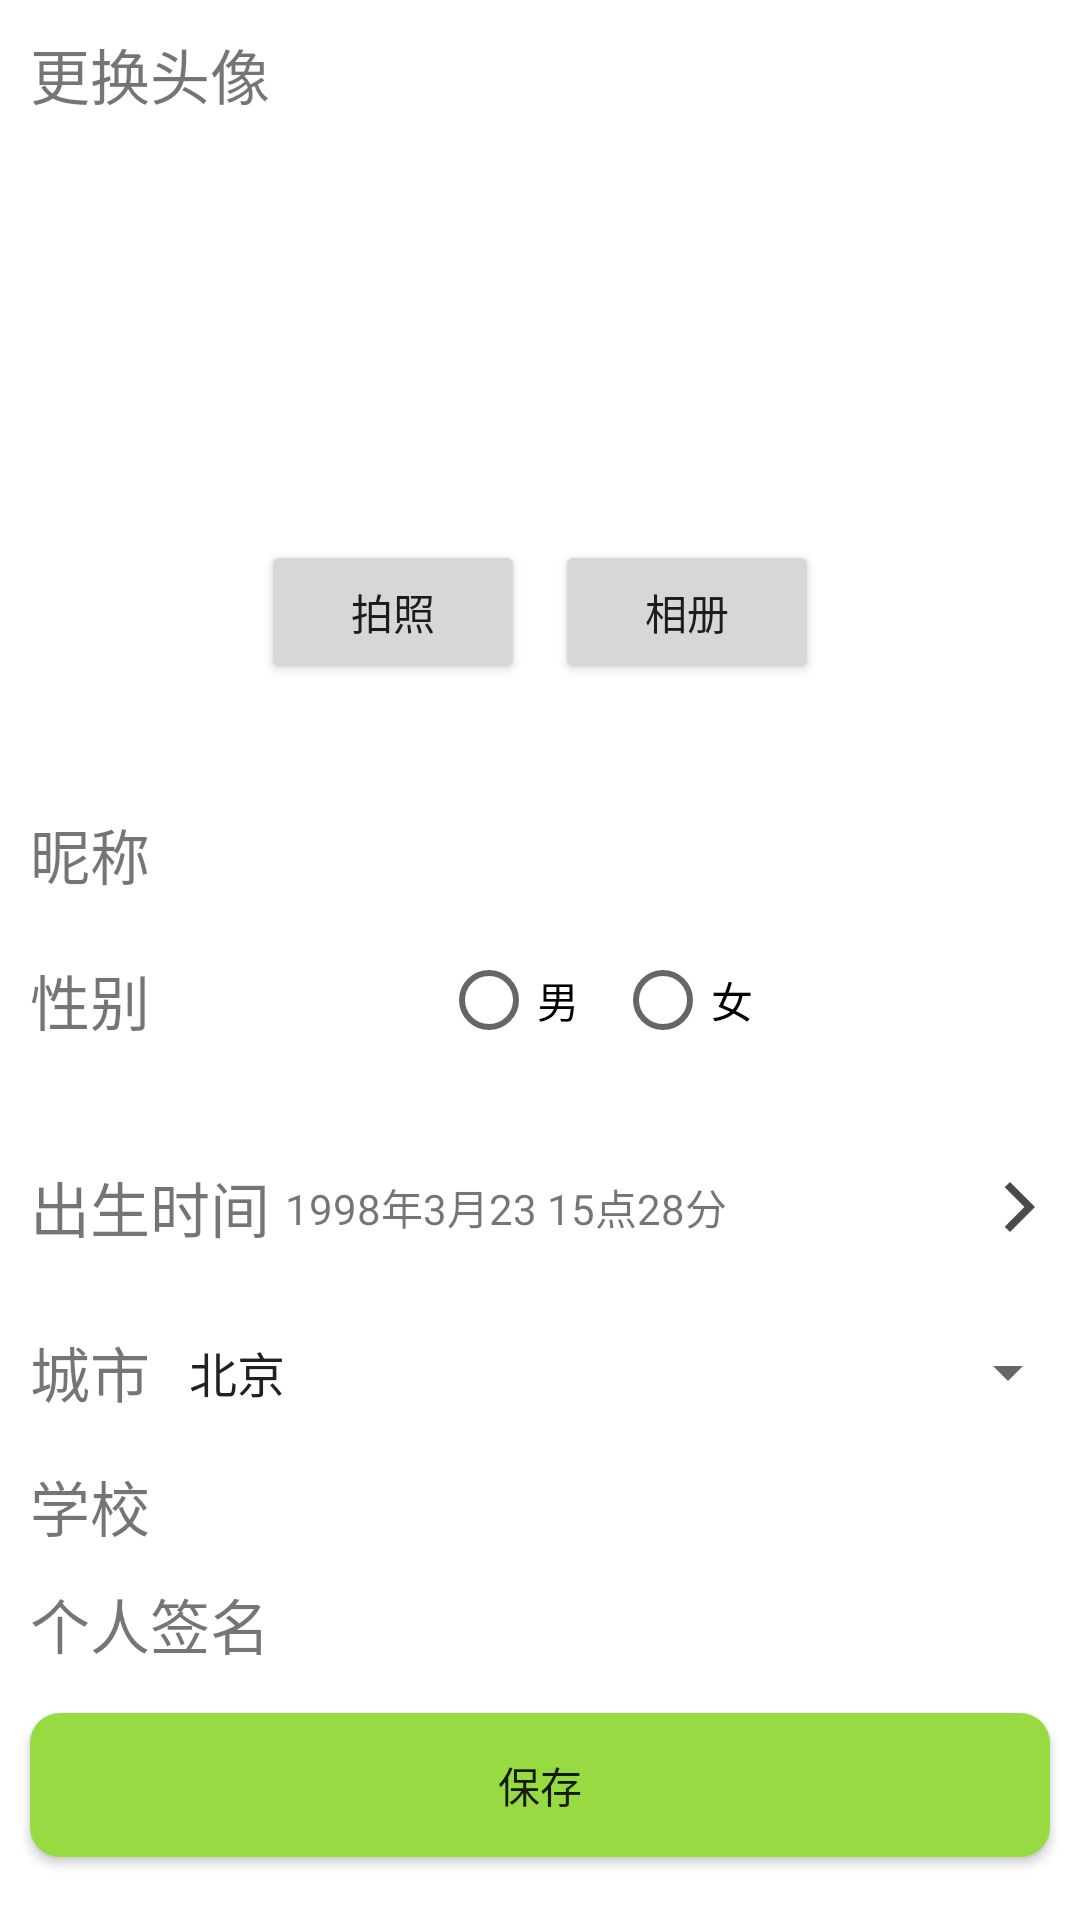

Screen size 1080w x 1920h. Icon name, then its center in pixels as (x,y):
arrow forward: (1020,1207)
